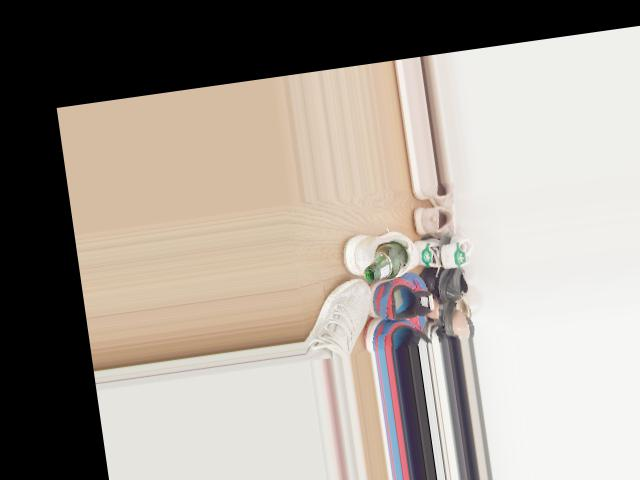beer: (360, 240, 409, 283)
